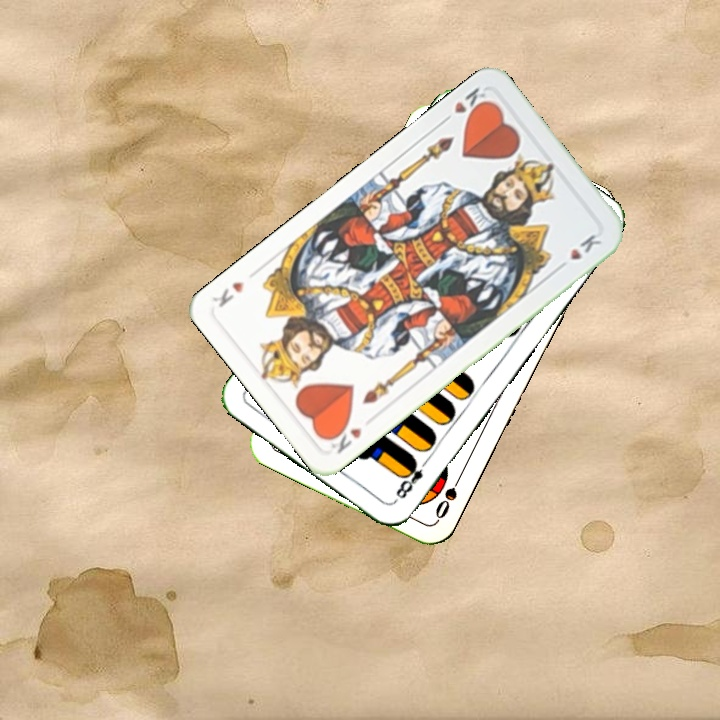E8: (390, 454, 432, 505)
HK: (437, 83, 492, 126), (321, 419, 365, 457)
SO: (431, 468, 466, 523)
